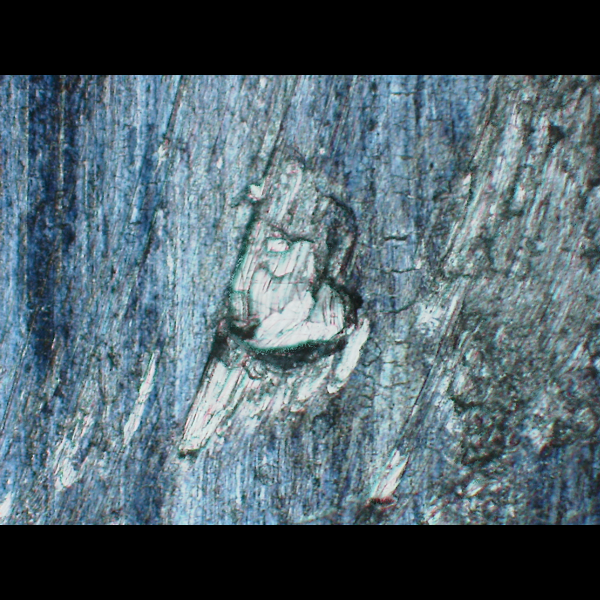d: (164, 155, 389, 468)
